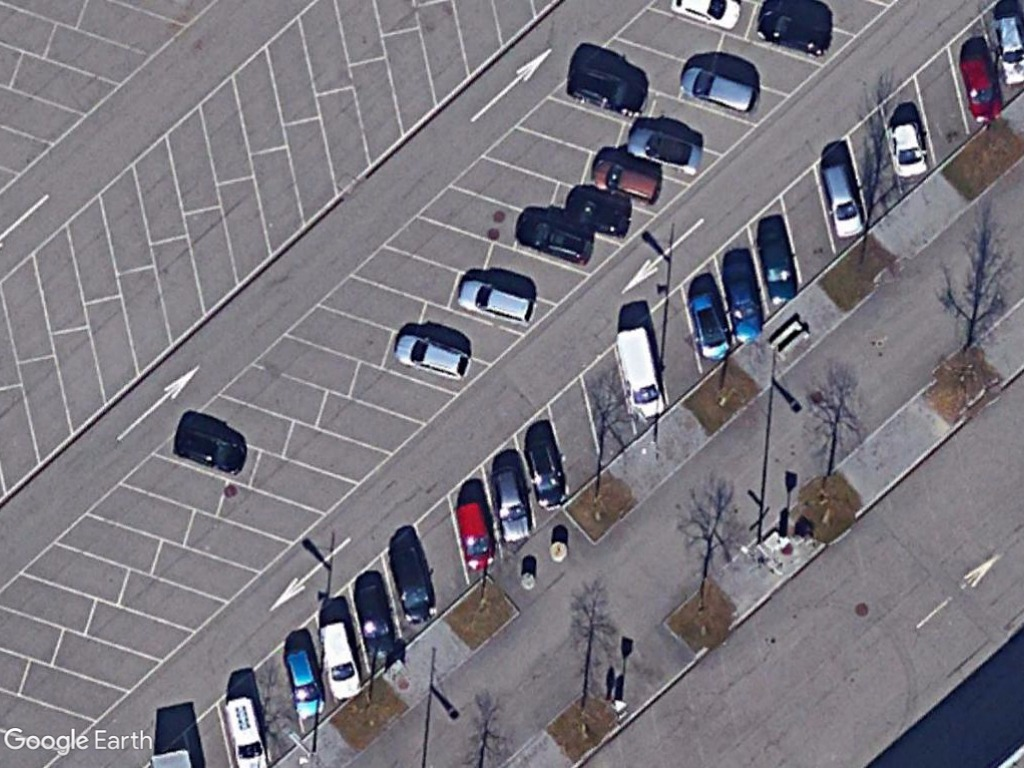car: (455, 277, 543, 328), (624, 125, 705, 177), (817, 161, 867, 241), (679, 66, 760, 115), (392, 332, 472, 381), (588, 157, 666, 206), (721, 263, 766, 347), (318, 618, 363, 701), (956, 49, 1004, 126), (490, 463, 533, 546), (281, 643, 327, 720), (453, 498, 498, 571), (688, 287, 730, 363)
van: (613, 327, 667, 420)
